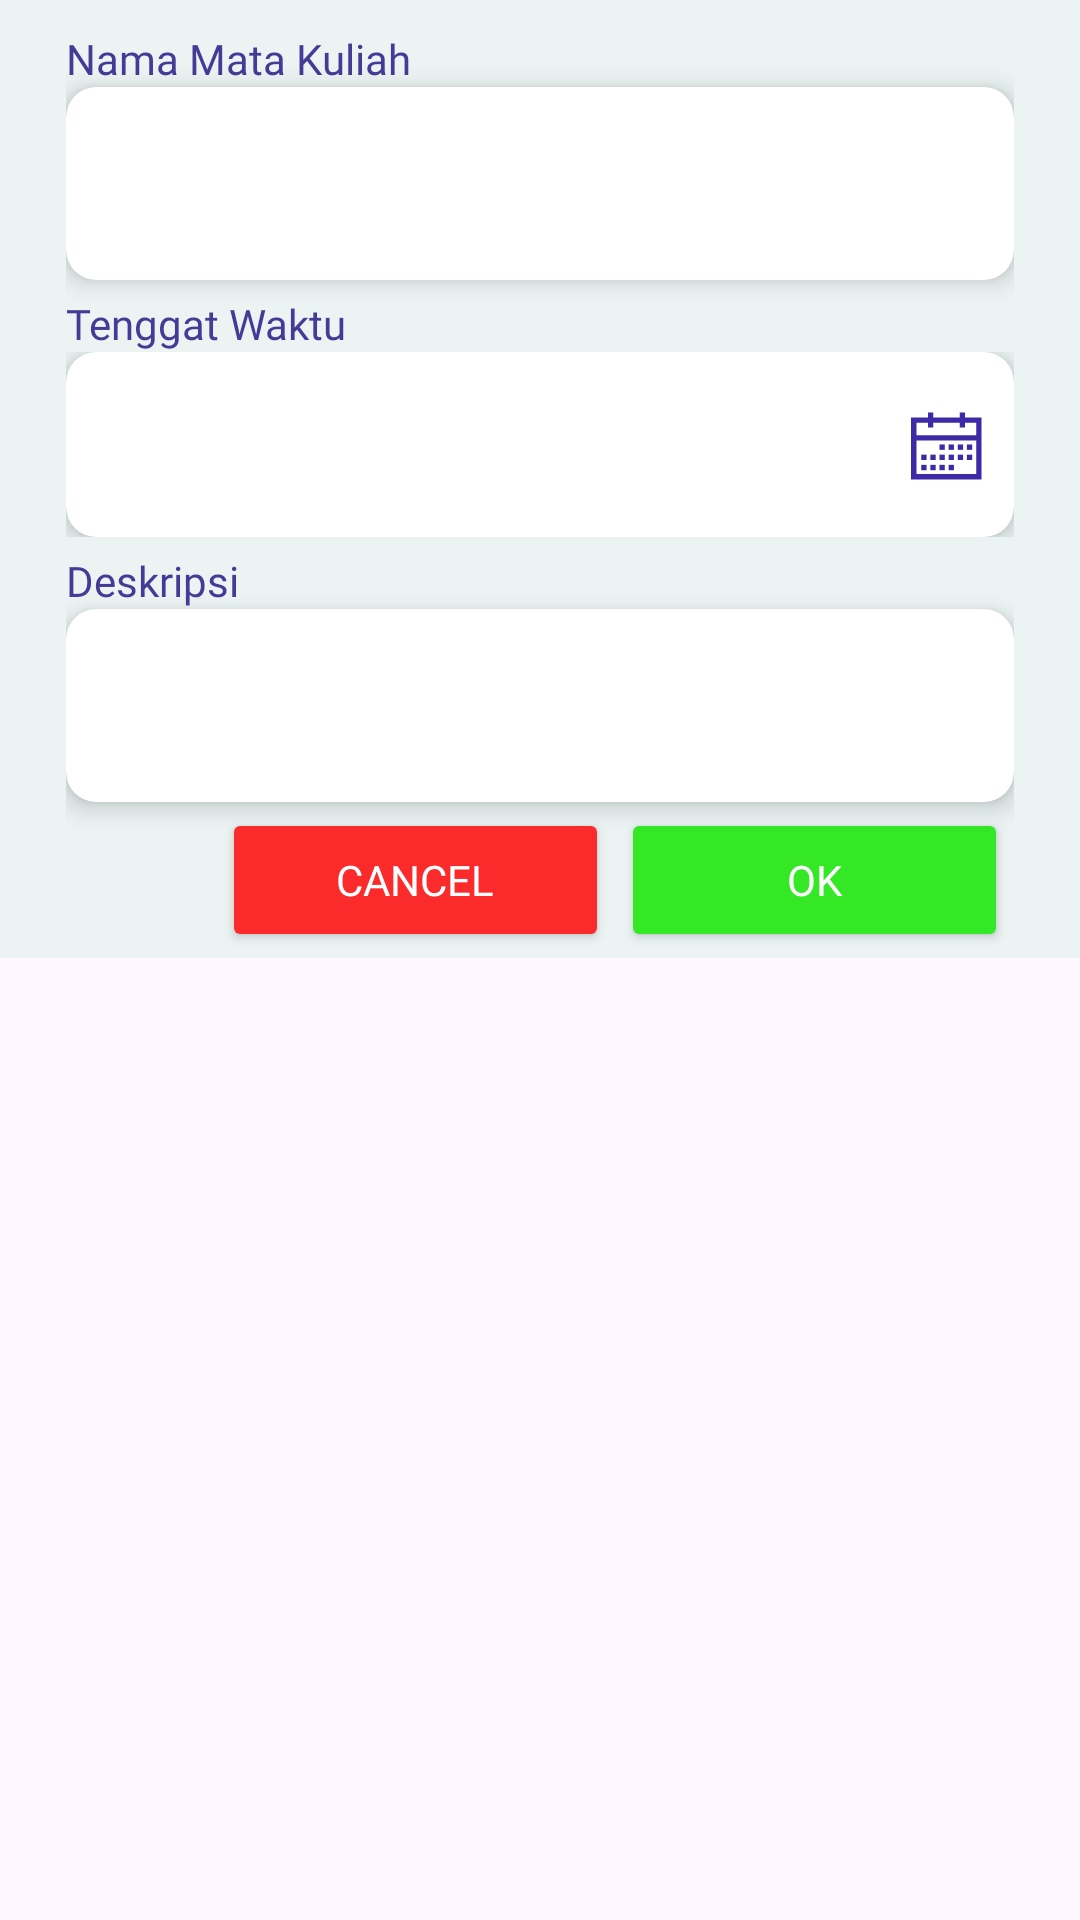

Where icons sit on this 1080*1920 app screen, as (x1, y1, x2, y2):
Calendar Icon: (911, 412, 982, 480)
